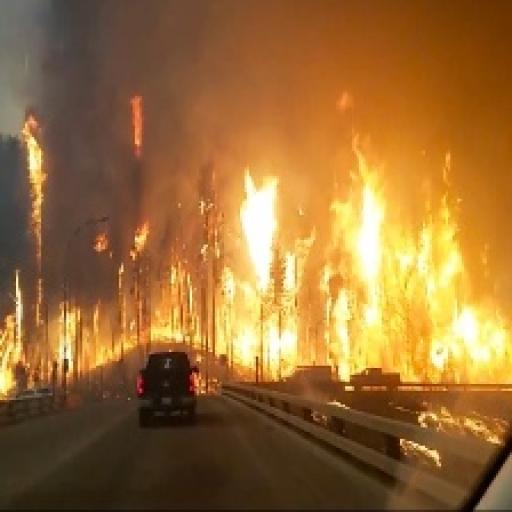fire and smoke: (212, 126, 512, 359)
